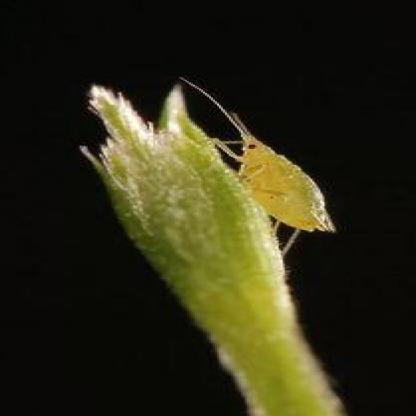aphid: (174, 81, 347, 242)
